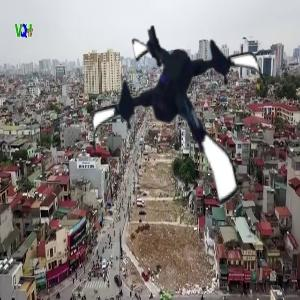drone: (84, 18, 281, 215)
